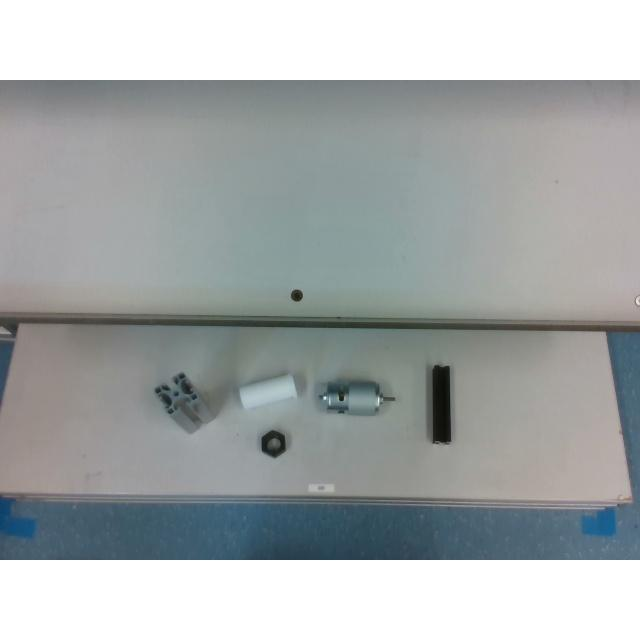F20_20_B: (432, 364, 452, 444)
M20: (262, 430, 286, 458)
Motor2: (319, 379, 395, 415)
S40_40_G: (154, 372, 214, 432)
Spacer: (240, 374, 296, 408)
